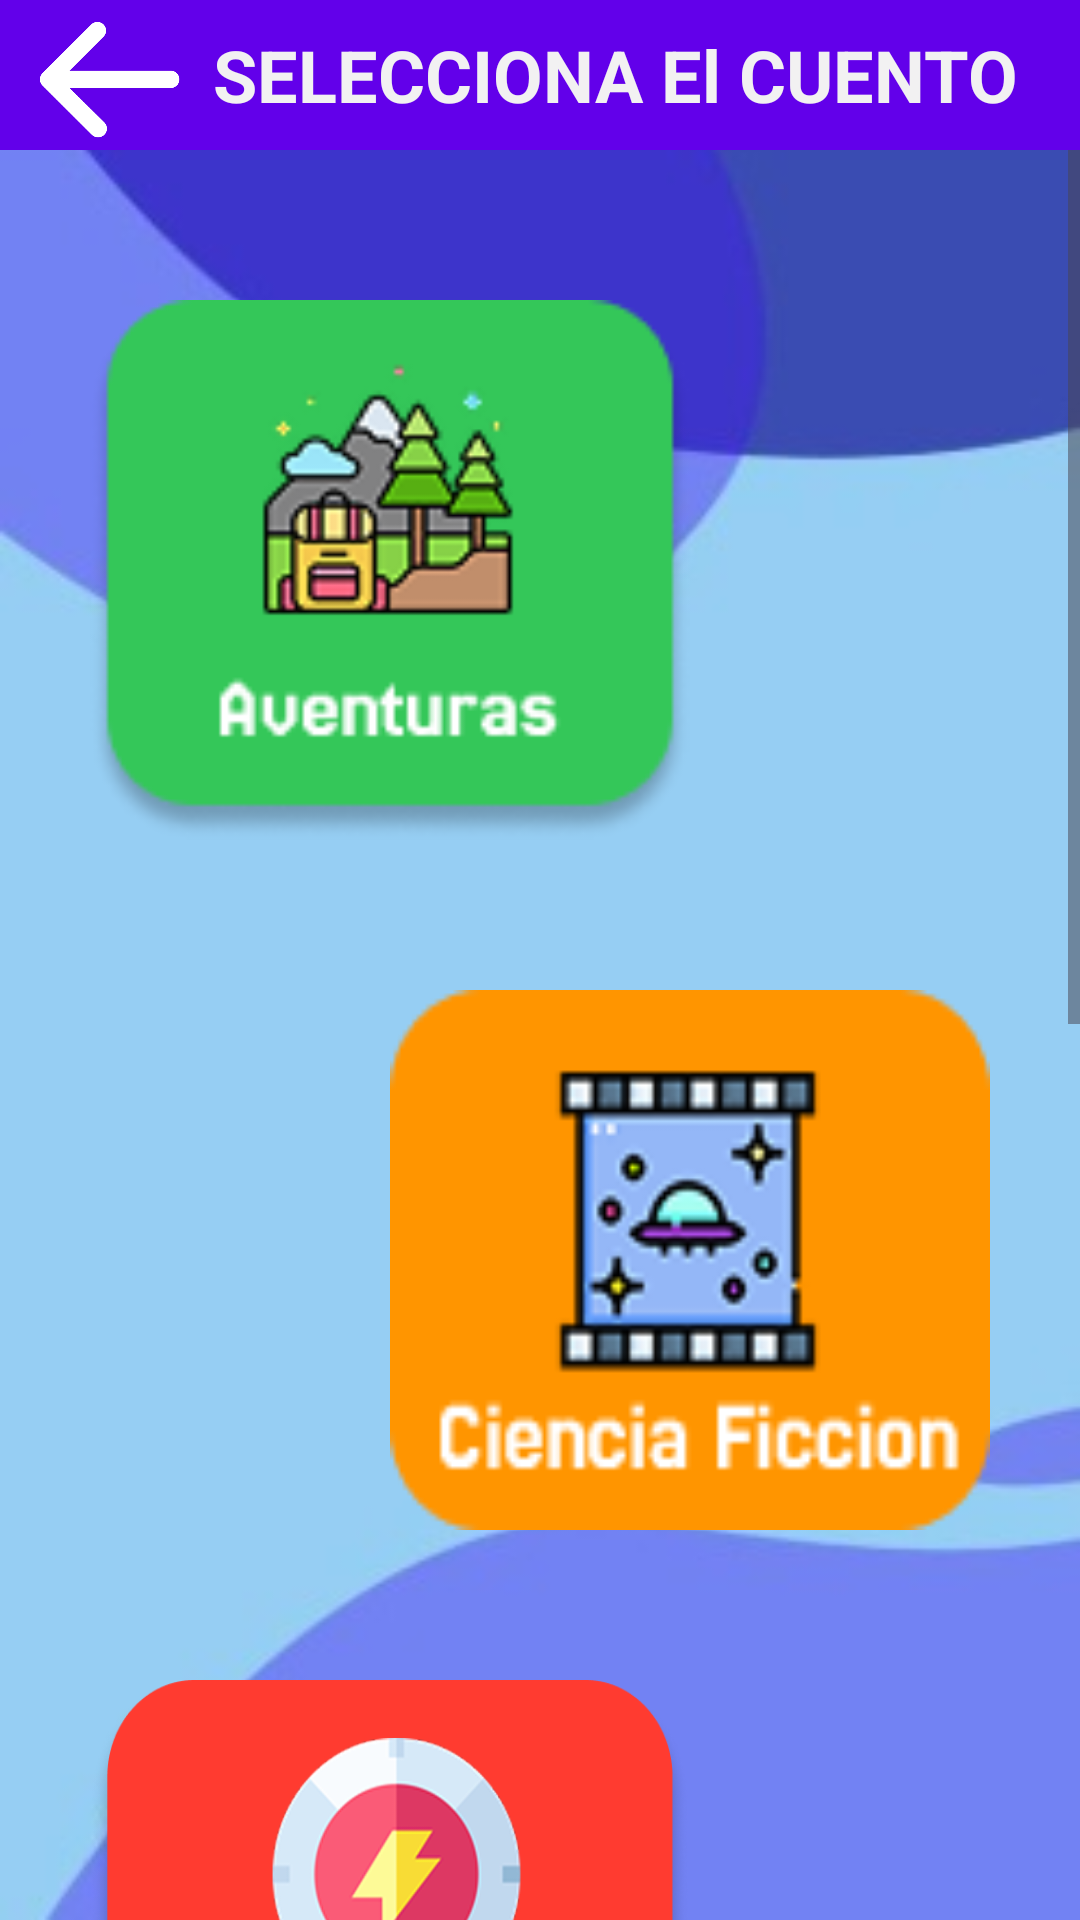

Icons on this 1080 x 1920 Android screen, each with the point to tap as (x=x, y=y):
flecha izquierda: (x=110, y=80)
